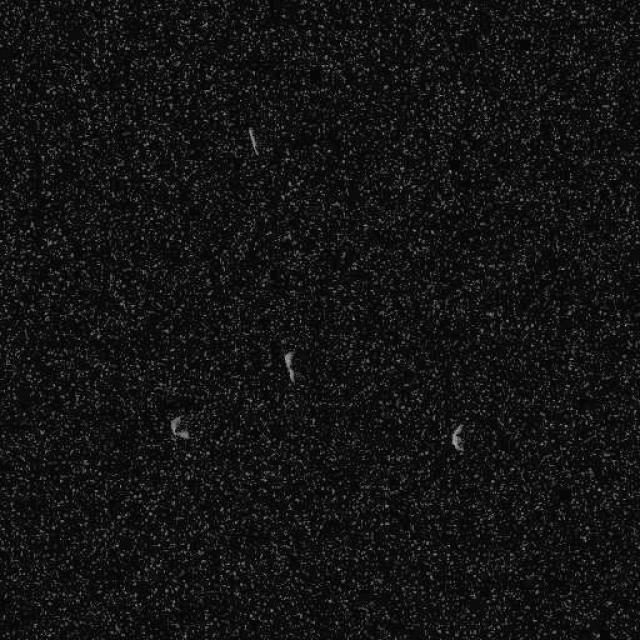D2: (169, 414, 191, 440), (282, 348, 296, 384), (450, 422, 465, 452), (246, 125, 260, 156)
